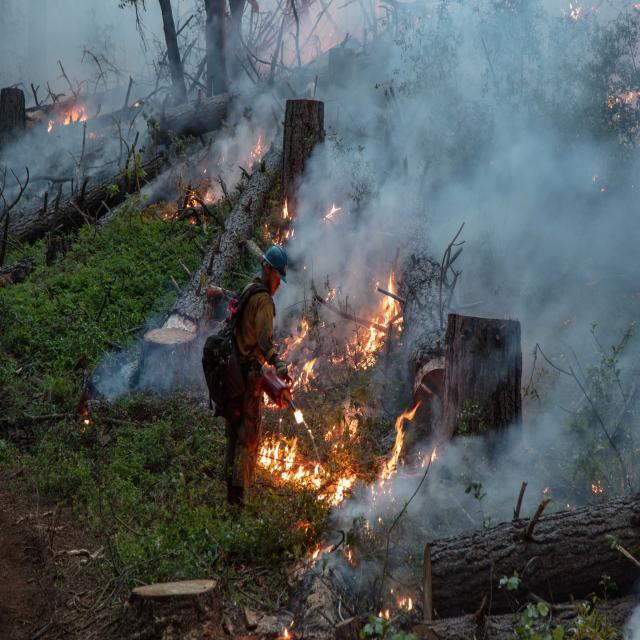Fire: (260, 403, 428, 515), (158, 133, 268, 231), (270, 308, 422, 376), (338, 244, 412, 382), (262, 432, 354, 512), (36, 61, 106, 162), (370, 406, 428, 489), (376, 574, 422, 632)
Smoke: (326, 0, 640, 308), (375, 1, 640, 290), (325, 0, 640, 222), (526, 0, 640, 508), (471, 0, 640, 306), (333, 428, 584, 534), (0, 0, 133, 179), (349, 483, 424, 579)
